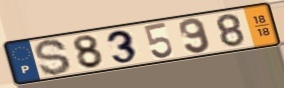3: (106, 28, 144, 66)
5: (142, 21, 174, 59)
8: (72, 34, 106, 70), (214, 13, 247, 48)
9: (178, 17, 213, 55)
S: (33, 38, 74, 77)
